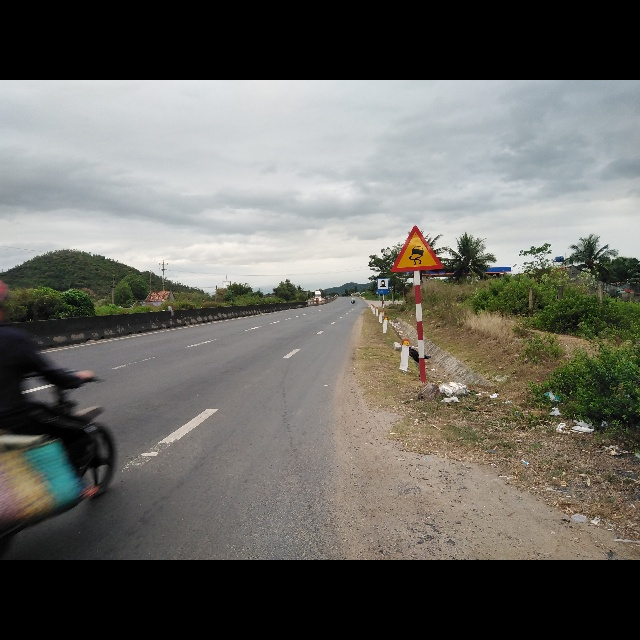Đường trơn trượt: (390, 225, 442, 276)
